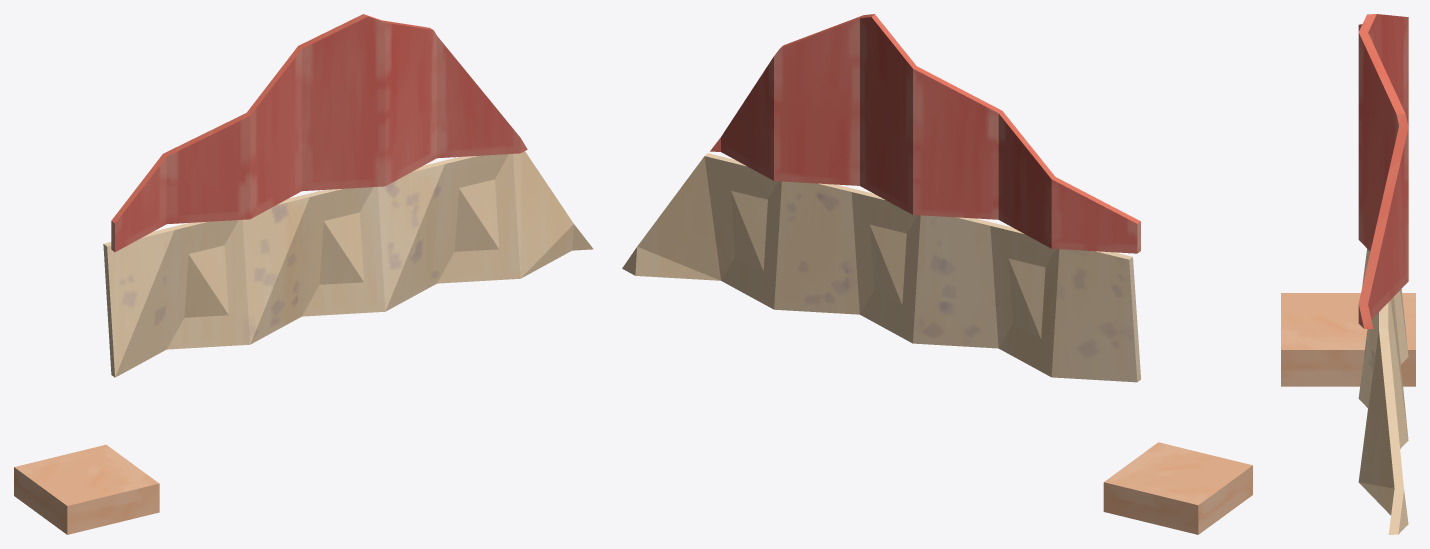
The model's file is rack_red_s03.fbx.
3 renders of one model, left to right at view 1: azimuth 30°, elevation 25°; view 2: azimuth 150°, elevation 25°; view 3: azimuth 270°, elevation 25°, orthographic. The views are drawn at different scales.
Visible parts, largest first — view 1: rack_red_s03; view 2: rack_red_s03; view 3: rack_red_s03.
Part boxes in pixels (x1,y1,x2,y2): rack_red_s03: [14, 14, 593, 534]; rack_red_s03: [622, 14, 1252, 534]; rack_red_s03: [1281, 14, 1415, 534].
Bounding box in the file's own units: 6.17 × 4.27 × 1.
